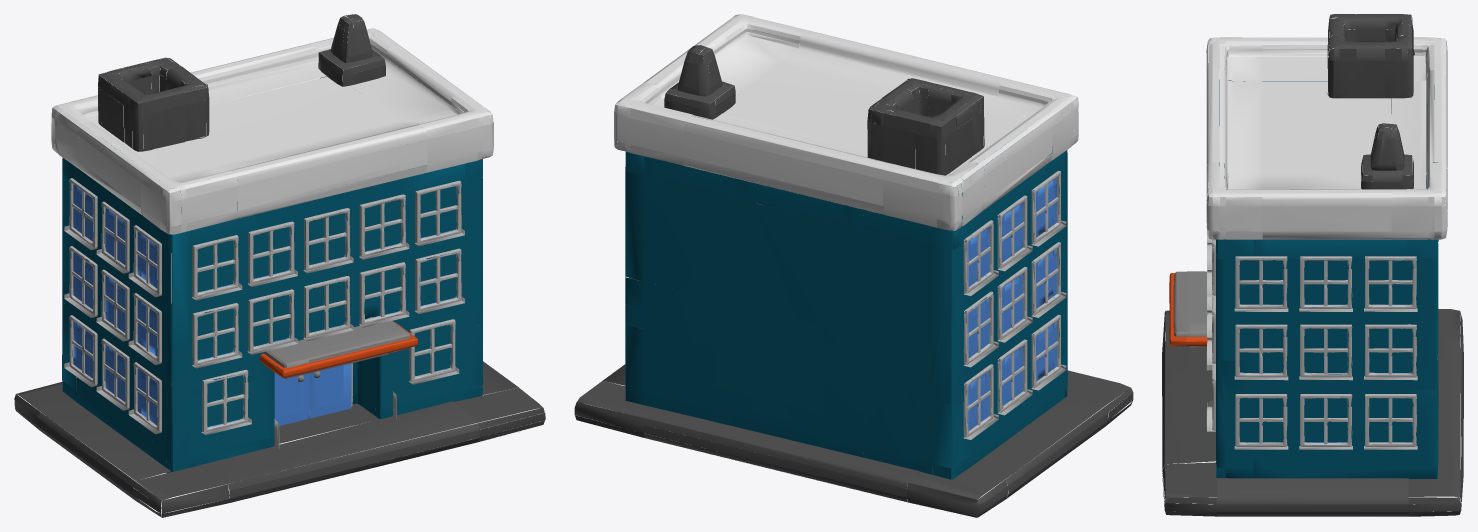
File: revel.glb
3 renders of one model, left to right at view 1: azimuth 30°, elevation 25°; view 2: azimuth 150°, elevation 25°; view 3: azimuth 270°, elevation 25°, orthographic. The views are drawn at different scales.
Visible parts, largest first — view 1: Cube.004; view 2: Cube.004; view 3: Cube.004.
Boxes of the visible parts, box(x1,y1,x2,y2) form: Cube.004: box(14, 14, 545, 517); Cube.004: box(574, 14, 1133, 517); Cube.004: box(1162, 14, 1463, 516).
Size of the model in its own units: 1 by 0.8633 by 0.6681.
